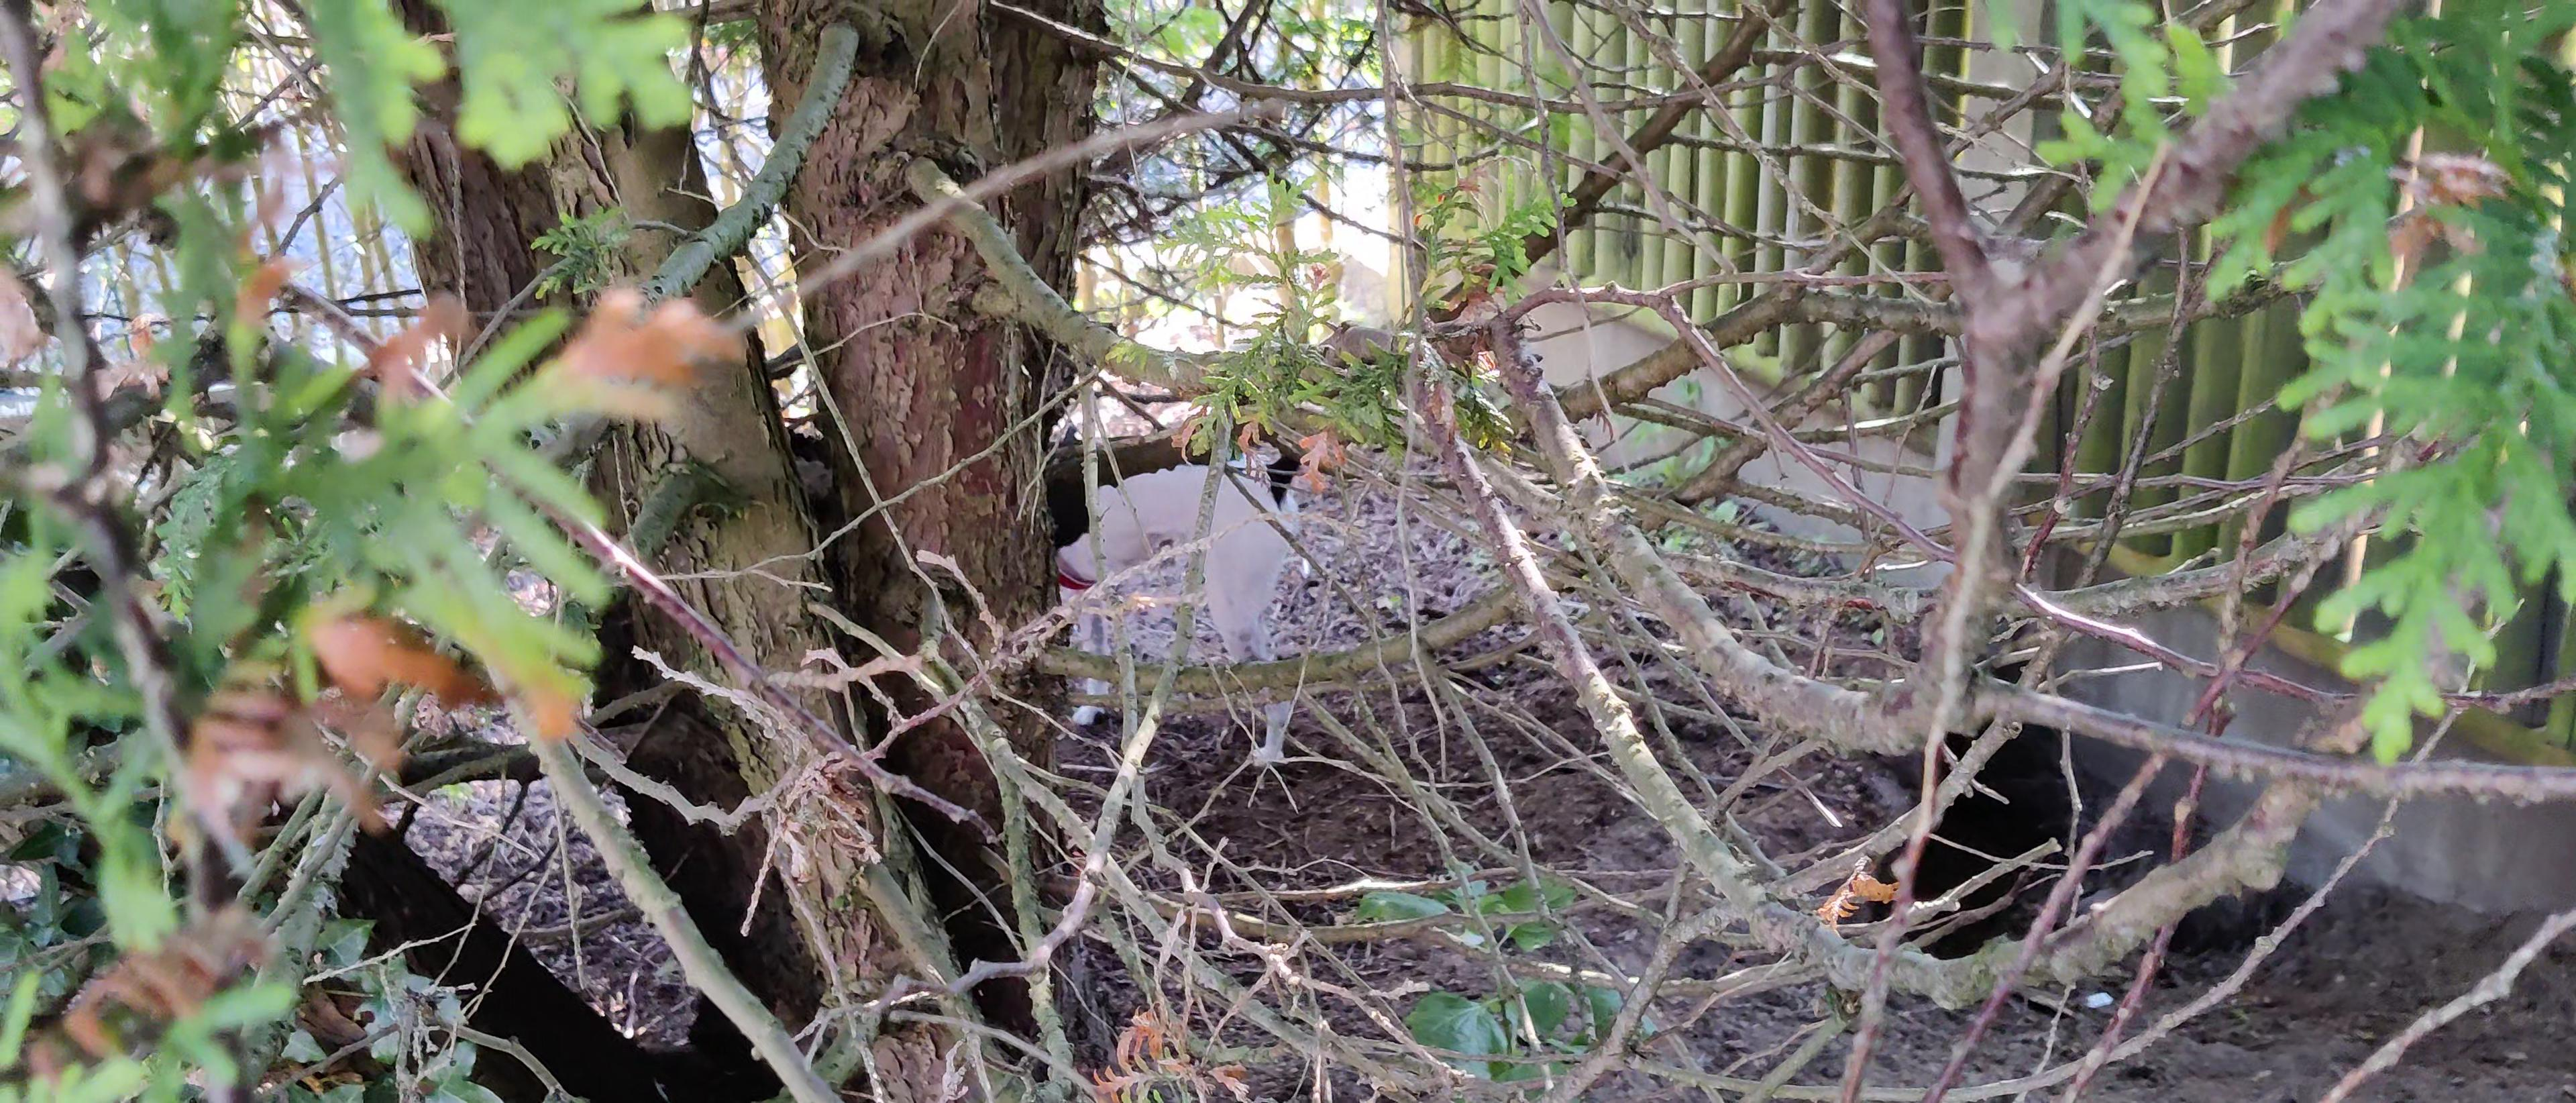Dog: (1017, 401, 1337, 769)
